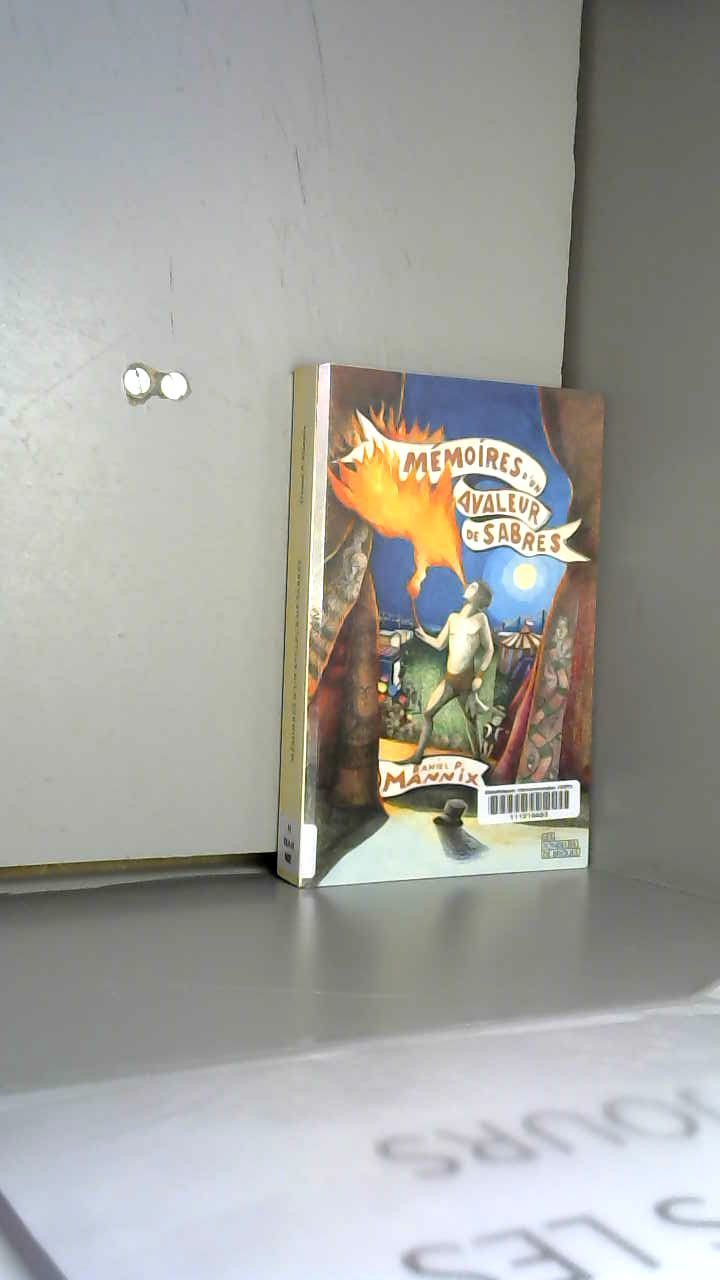book: (270, 340, 715, 910)
